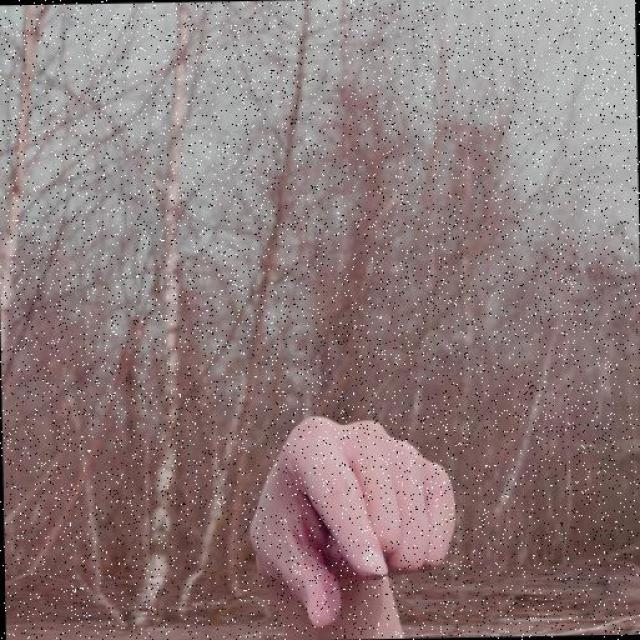Q: (240, 406, 464, 633)
